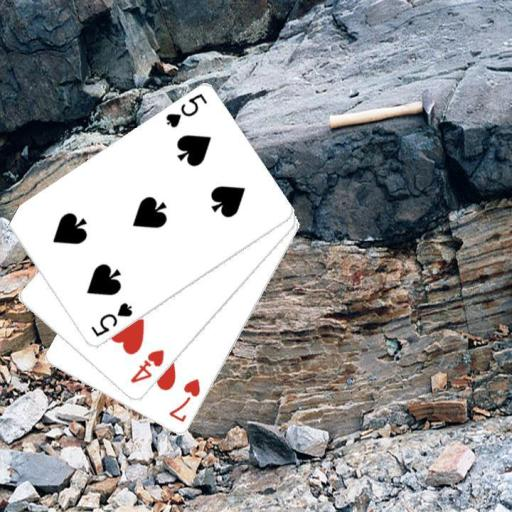4H: (127, 347, 166, 386)
5S: (88, 300, 135, 340), (162, 90, 208, 130)
7H: (166, 376, 202, 425)
